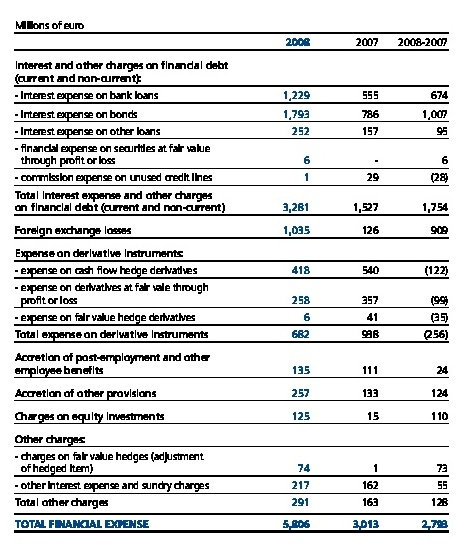table: (0, 0, 467, 552)
